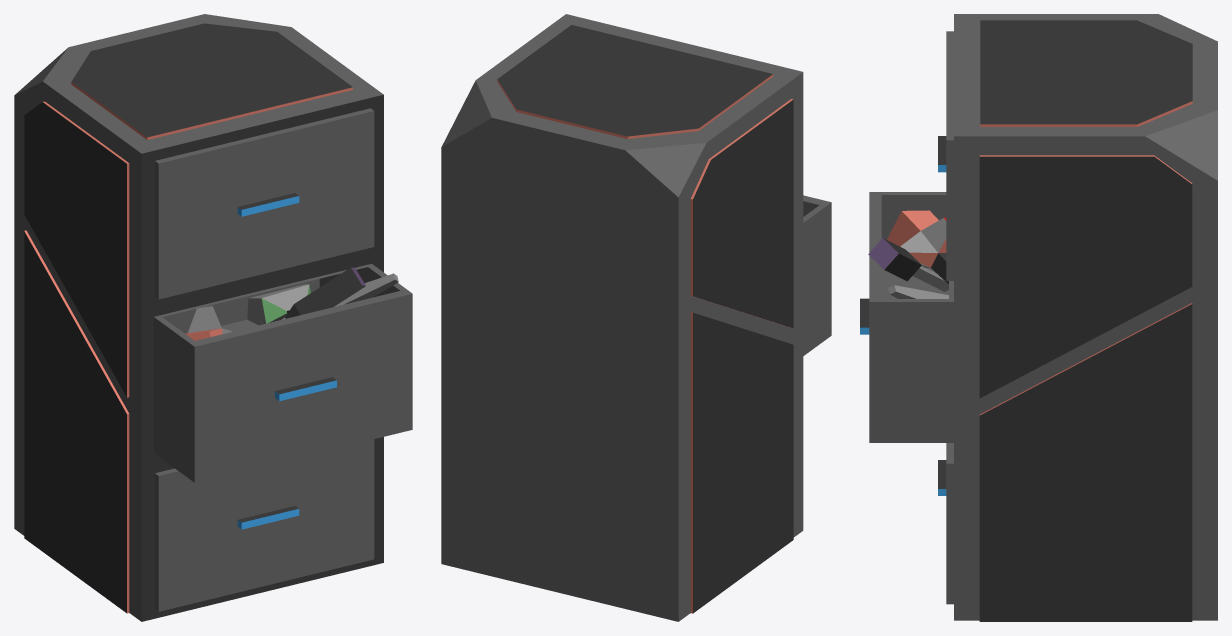
File: Cabinet_2.fbx
The picture shows the model from 3 angles, left to right: view 1: azimuth 30°, elevation 25°; view 2: azimuth 150°, elevation 25°; view 3: azimuth 270°, elevation 25°; orthographic projection. The views are drawn at different scales.
Parts seen in each view (by area): view 1: Cabinet_2; view 2: Cabinet_2; view 3: Cabinet_2.
Part boxes in pixels (x1,y1,x2,y2): Cabinet_2: [14, 14, 412, 621]; Cabinet_2: [441, 14, 831, 621]; Cabinet_2: [860, 14, 1217, 621].
Size of the model in its own units: 100 by 183 by 122.
